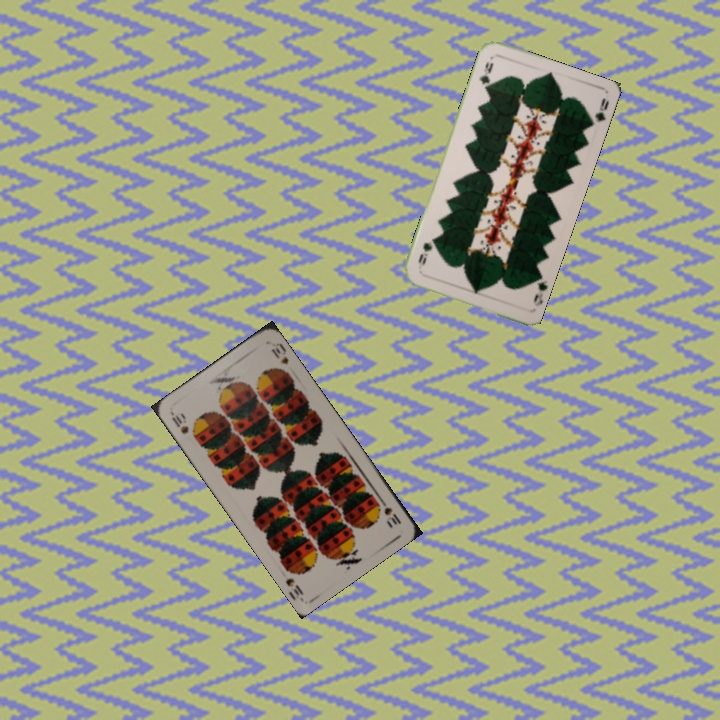G9: (529, 271, 550, 309), (475, 57, 496, 93)
S10: (375, 493, 404, 530), (167, 409, 191, 436)
